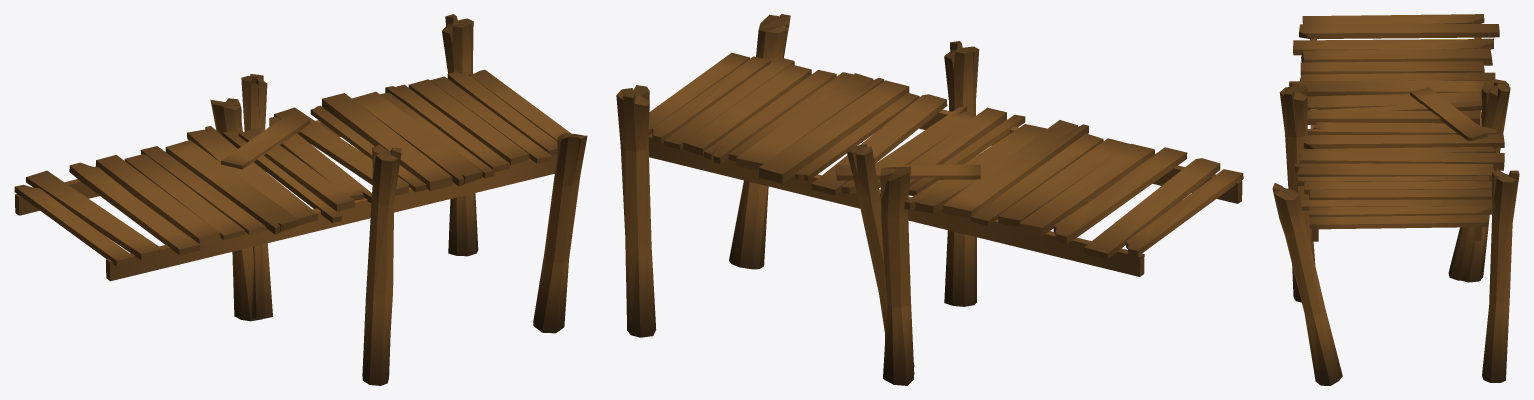
The model's file is Pond_Boardwalk-02.FBX.
3 renders of one model, left to right at view 1: azimuth 30°, elevation 25°; view 2: azimuth 150°, elevation 25°; view 3: azimuth 270°, elevation 25°, orthographic. The views are drawn at different scales.
Parts seen in each view (by area): view 1: Pond_Boardwalk-02; view 2: Pond_Boardwalk-02; view 3: Pond_Boardwalk-02.
Boxes of the visible parts, box(x1,y1,x2,y2) form: Pond_Boardwalk-02: box(14, 14, 587, 385); Pond_Boardwalk-02: box(616, 14, 1243, 385); Pond_Boardwalk-02: box(1272, 14, 1519, 385).
Size of the model in its own units: 703 by 335 by 350.
1 material, 1 textured.
